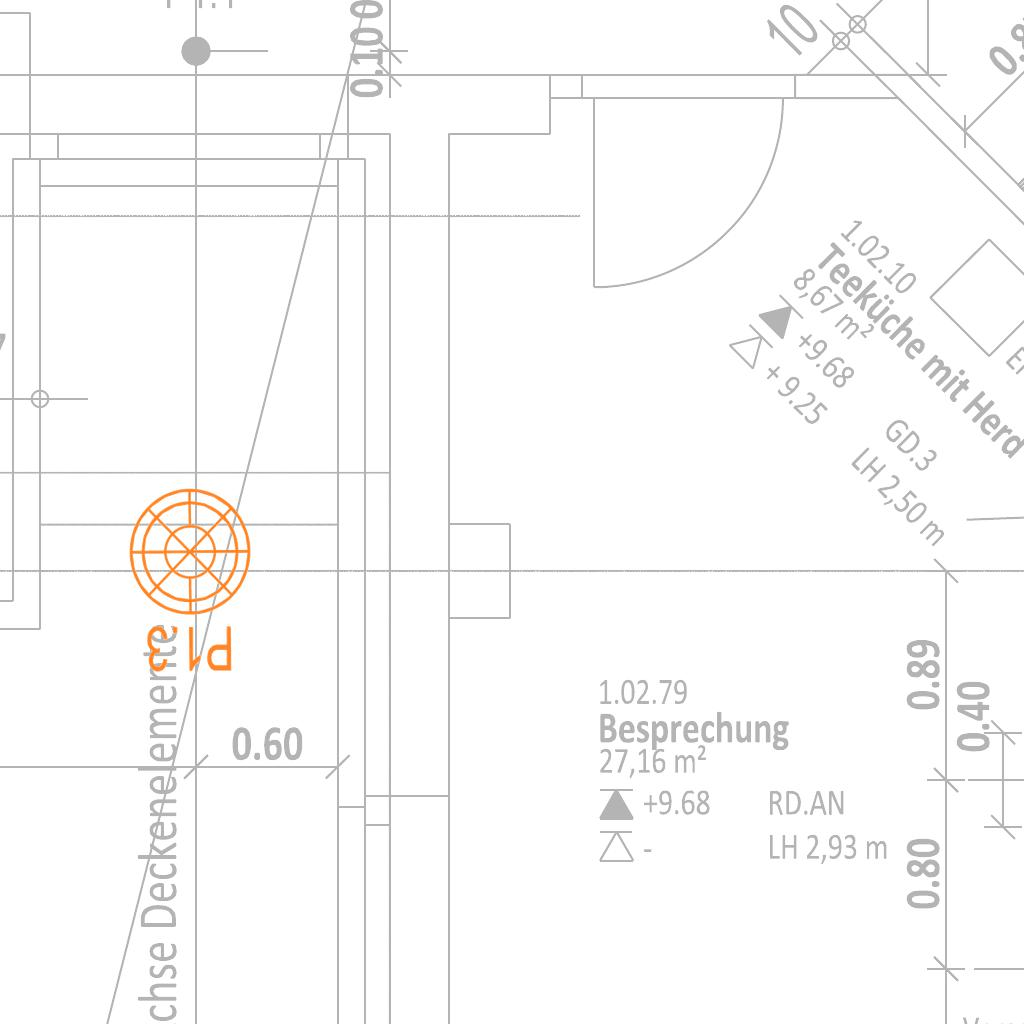Aufbaurundleuchte_LED_Treppenhaus: (115, 485, 254, 690)
